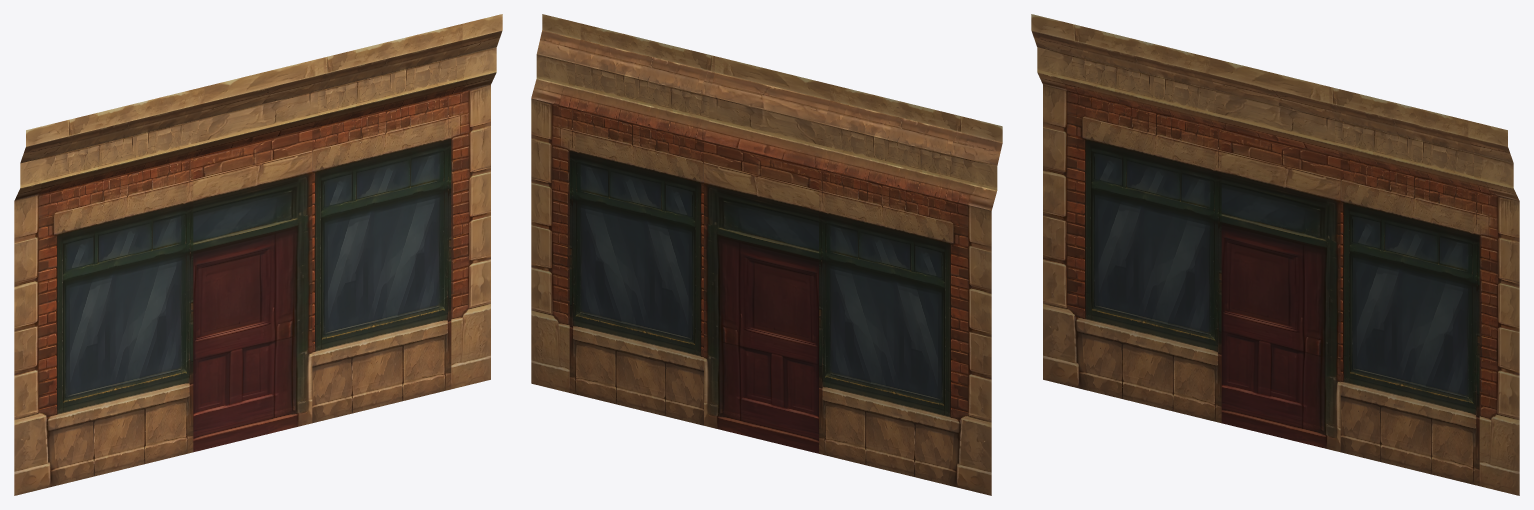
Rendered from BRK_G_Bay6B.fbx.
3 views of the same model, side by side, from view 1: azimuth 30°, elevation 25°; view 2: azimuth 150°, elevation 25°; view 3: azimuth 330°, elevation 25° (orthographic). The views are drawn at different scales.
Parts seen in each view (by area): view 1: BRK_G_Bay6B; view 2: BRK_G_Bay6B; view 3: BRK_G_Bay6B.
Part boxes in pixels (left/top/right/bottom): BRK_G_Bay6B: left=14, top=14, right=502, bottom=495; BRK_G_Bay6B: left=531, top=14, right=1002, bottom=495; BRK_G_Bay6B: left=1031, top=14, right=1519, bottom=495.
Bounding box in the file's own units: 6 × 0.25 × 4.5.
1 material, 1 textured.
